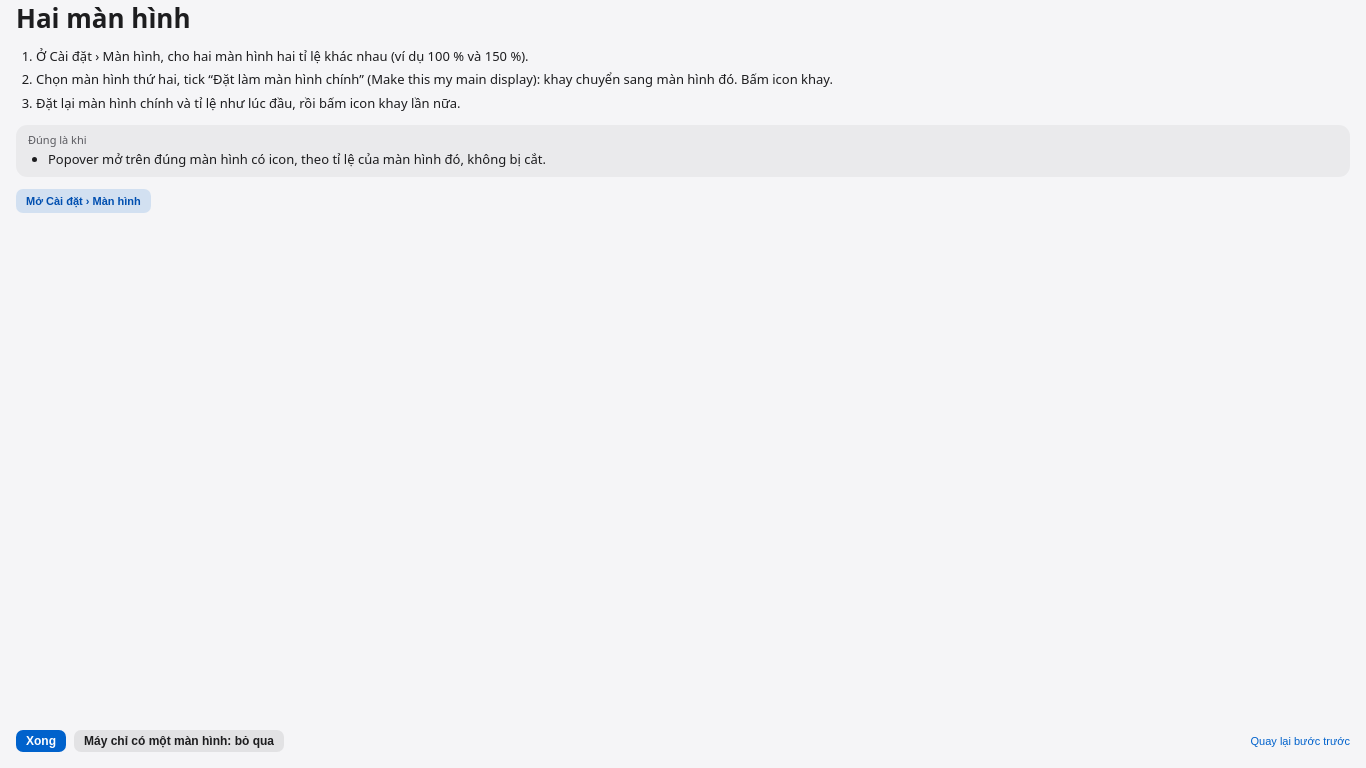
Test: the guide › resumes where it was, and lets an optional step be left out
(page scrolled)
Expected: the heading reads "Hai màn hình", [16, 0, 190, 36]
Click the button "Máy chỉ có một màn hình: bỏ qua" at (179, 741), box [74, 730, 284, 752]
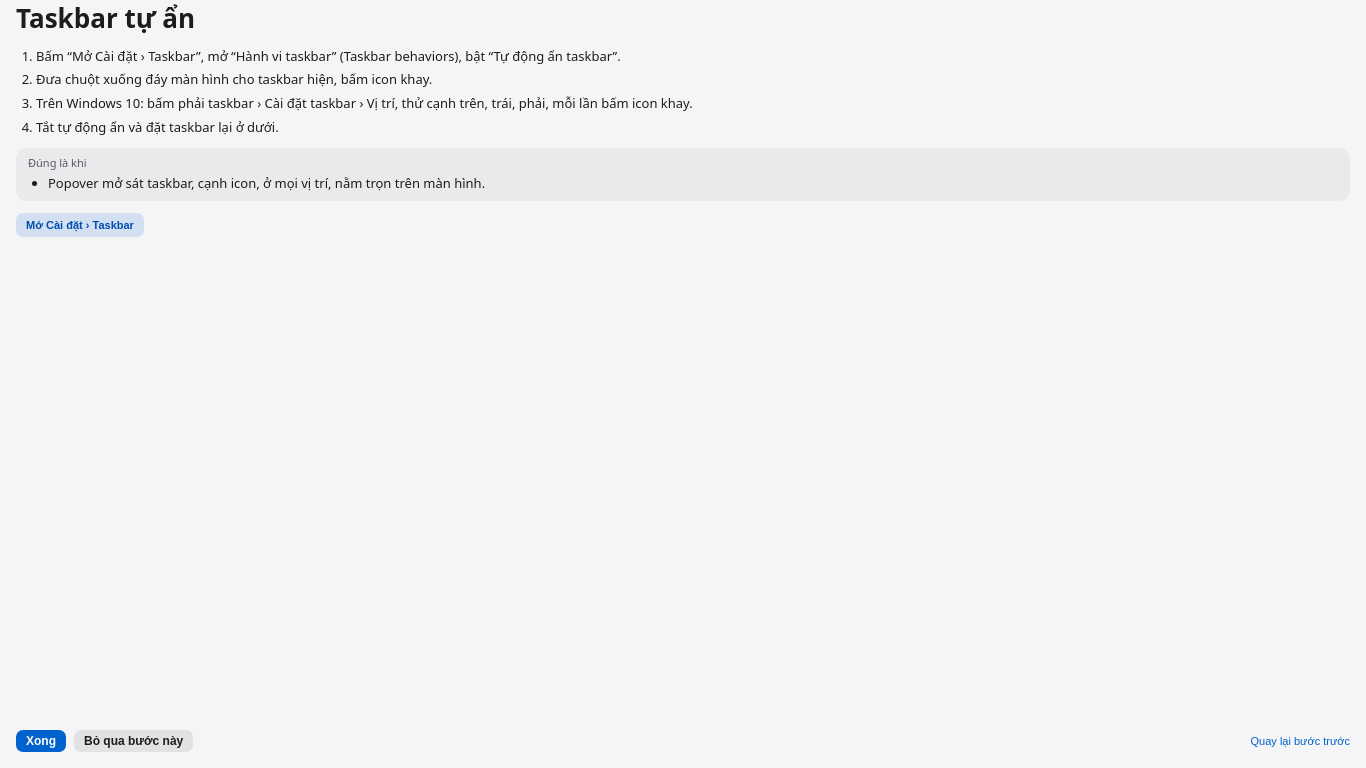
Expected: the heading "Taskbar tự ẩn" is shown, [16, 0, 195, 36]
